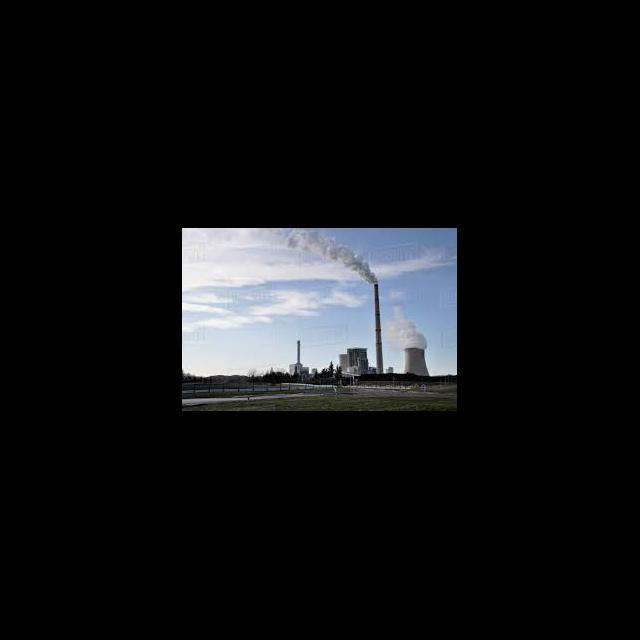Smoke: (289, 232, 377, 284), (387, 312, 429, 348)
